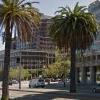Palm tree: (52, 6, 100, 90)
